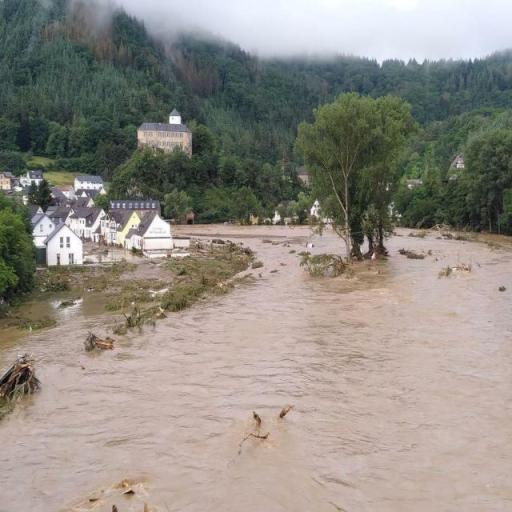flood: (0, 225, 512, 512)
house: (137, 110, 194, 154), (44, 223, 84, 266), (68, 201, 106, 245), (134, 212, 174, 250), (116, 210, 142, 244), (32, 213, 54, 248), (73, 172, 104, 190), (308, 200, 328, 222), (21, 168, 45, 186), (0, 170, 17, 190)
